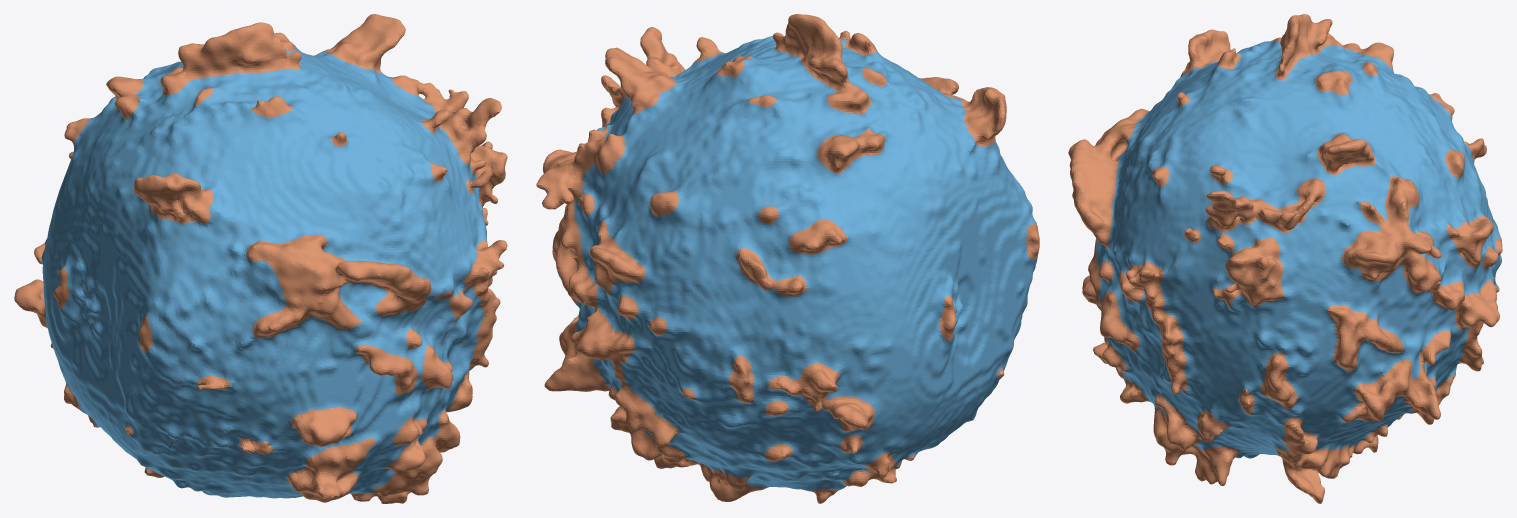
3 renders of one model, left to right at view 1: azimuth 30°, elevation 25°; view 2: azimuth 150°, elevation 25°; view 3: azimuth 270°, elevation 25°, orthographic. The views are drawn at different scales.
Bounding box in the file's own units: 148 × 168 × 156.
